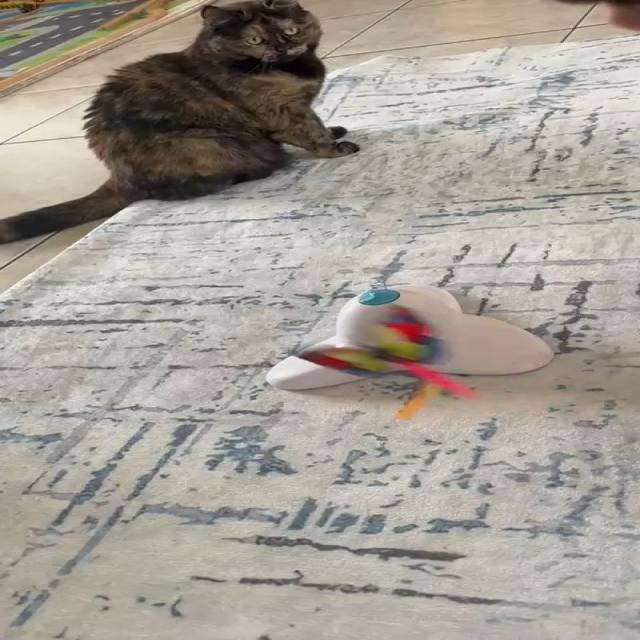authorized: (0, 0, 360, 245)
